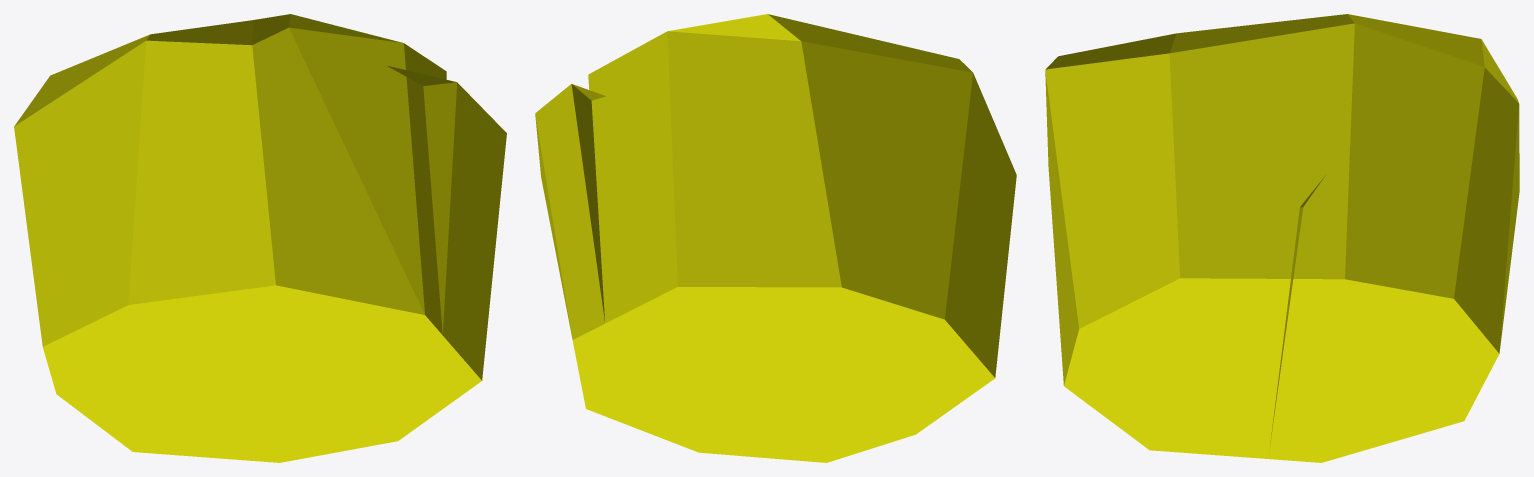
The picture shows the model from 3 angles, left to right: view 1: azimuth 30°, elevation 25°; view 2: azimuth 150°, elevation 25°; view 3: azimuth 270°, elevation 25°; orthographic projection. The views are drawn at different scales.
Parts seen in each view (by area): view 1: stone_002; view 2: stone_002; view 3: stone_002.
Boxes of the visible parts, bbox=[...] form: stone_002: bbox=[14, 14, 506, 462]; stone_002: bbox=[535, 14, 1016, 462]; stone_002: bbox=[1045, 14, 1519, 462].
Bounding box in the file's own units: 3.05 × 1.89 × 3.01.
Materials: 1 (1 with a texture image).
